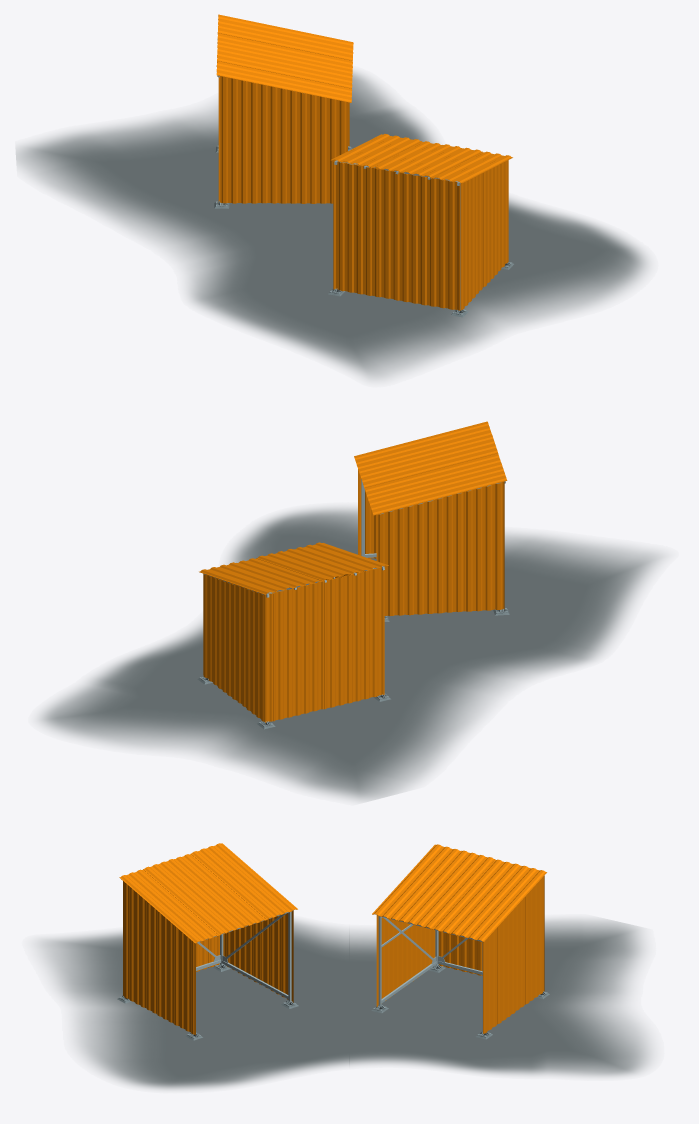
File: sheds.glb
3 renders of one model, top to bottom at view 1: azimuth 30°, elevation 25°; view 2: azimuth 150°, elevation 25°; view 3: azimuth 270°, elevation 25°, orthographic. The views are drawn at different scales.
Visible parts, largest first — view 1: ground; view 2: ground; view 3: ground.
Boxes of the visible parts, x1,y1,x2,y2 form: ground: (16,14,648,380); ground: (38,421,664,801); ground: (36,843,652,1089).
Size of the model in its own units: 9.9 by 2.69 by 13.28.
4 materials, 1 textured.
